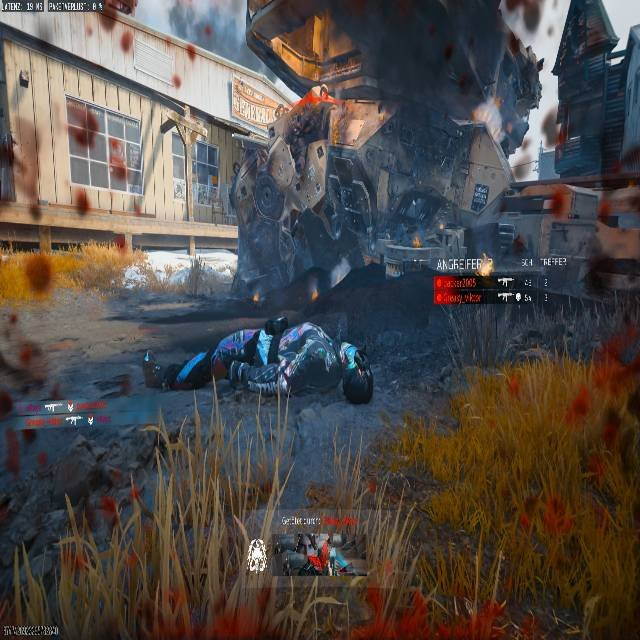head: (338, 343, 373, 405)
